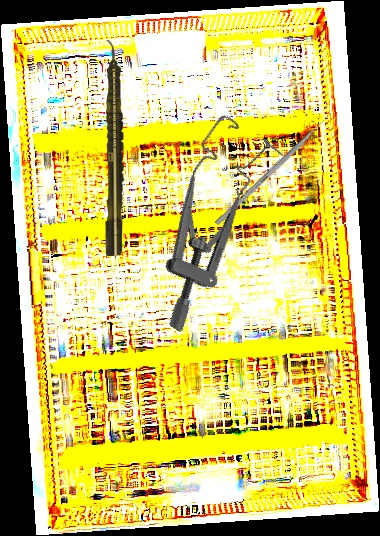Handpiece: (104, 40, 124, 256)
Pusher: (214, 109, 336, 227)
Speculum: (106, 110, 300, 335)
